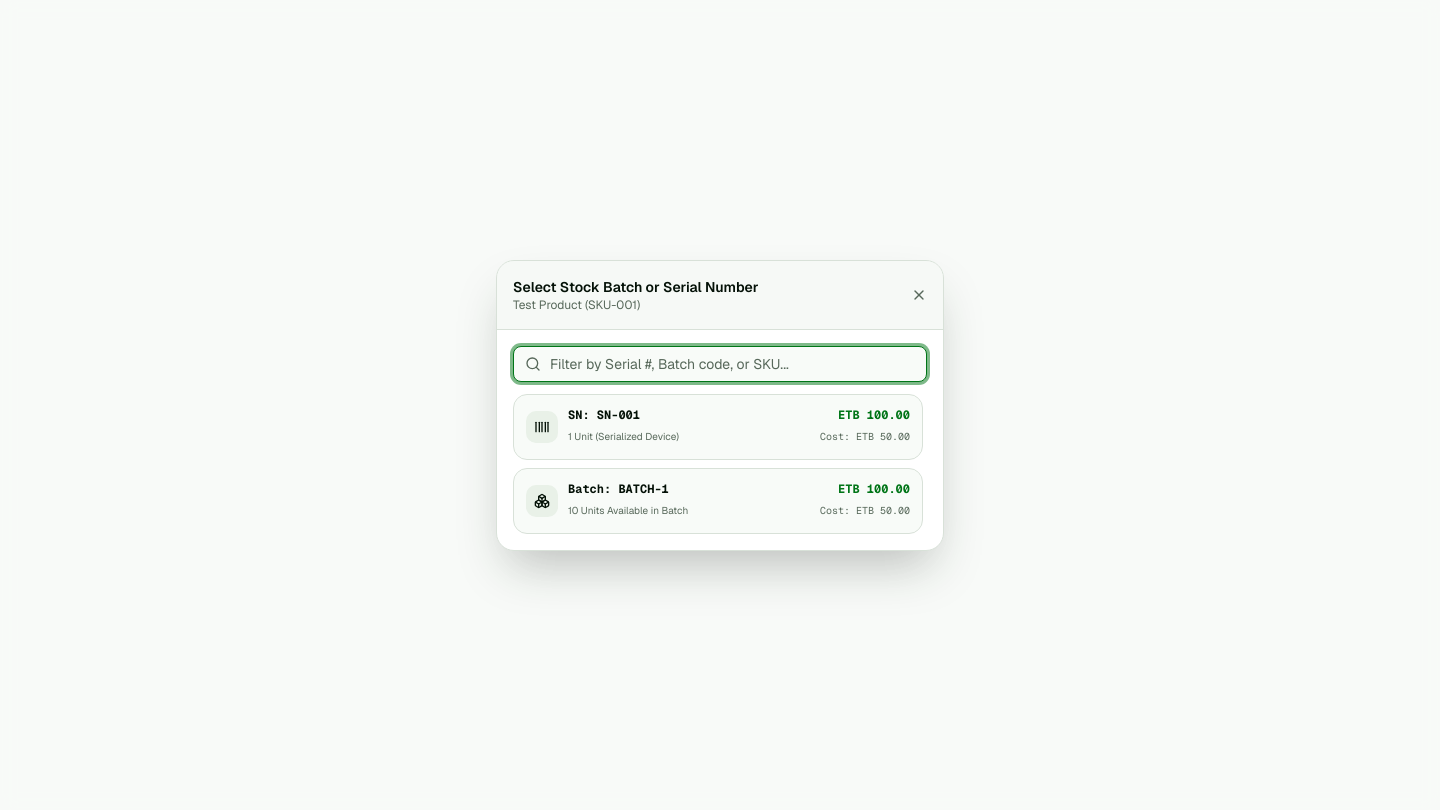
PosSerialDialog › filters stocks based on search
Type "BATCH" into the field with placeholder "Filter by Serial #, Batch code, or SKU..." at (720, 364), box [513,346,927,382]
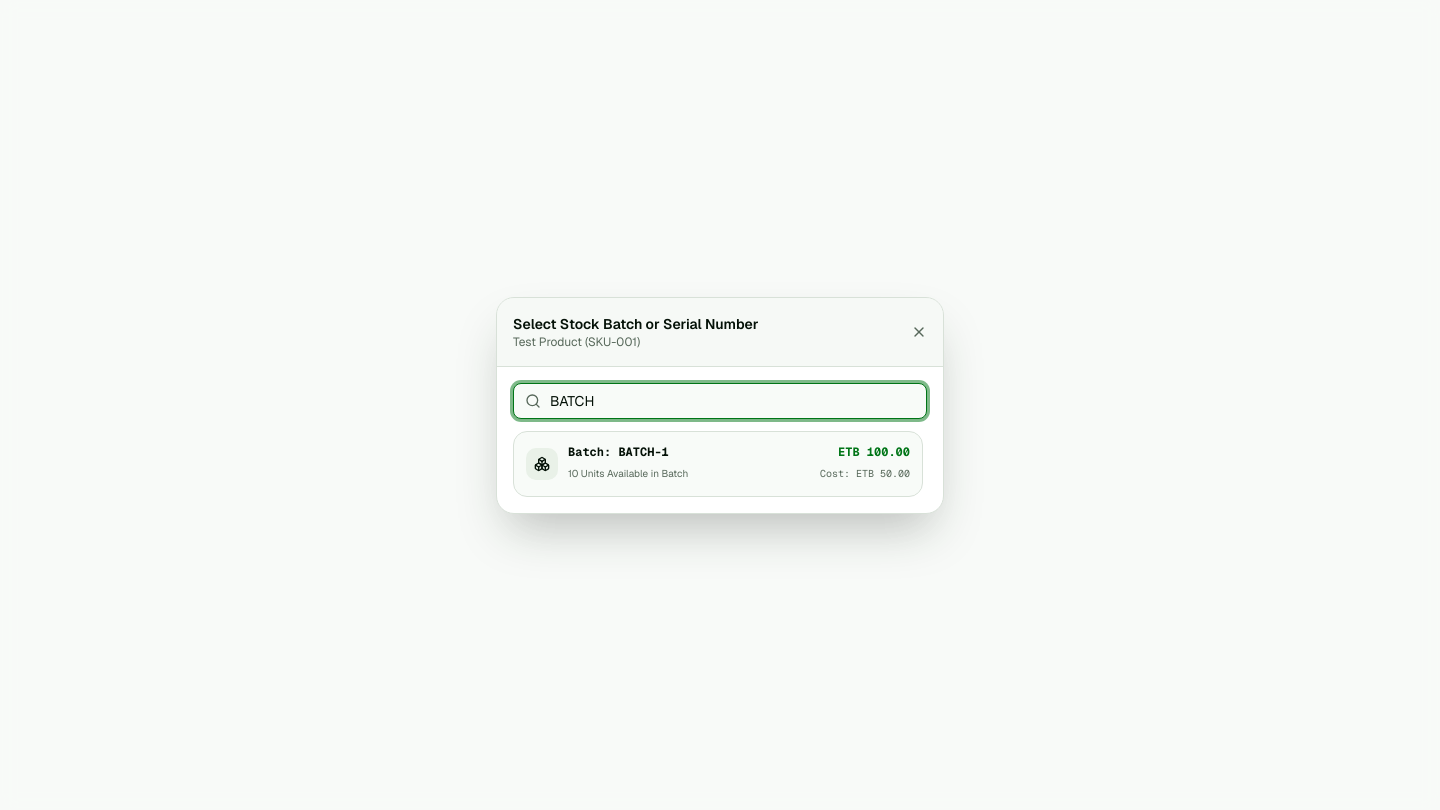
Expected: the text "Batch: BATCH-1" is shown, [568,444,669,460]
Result: the button "SN: SN-001" is gone
